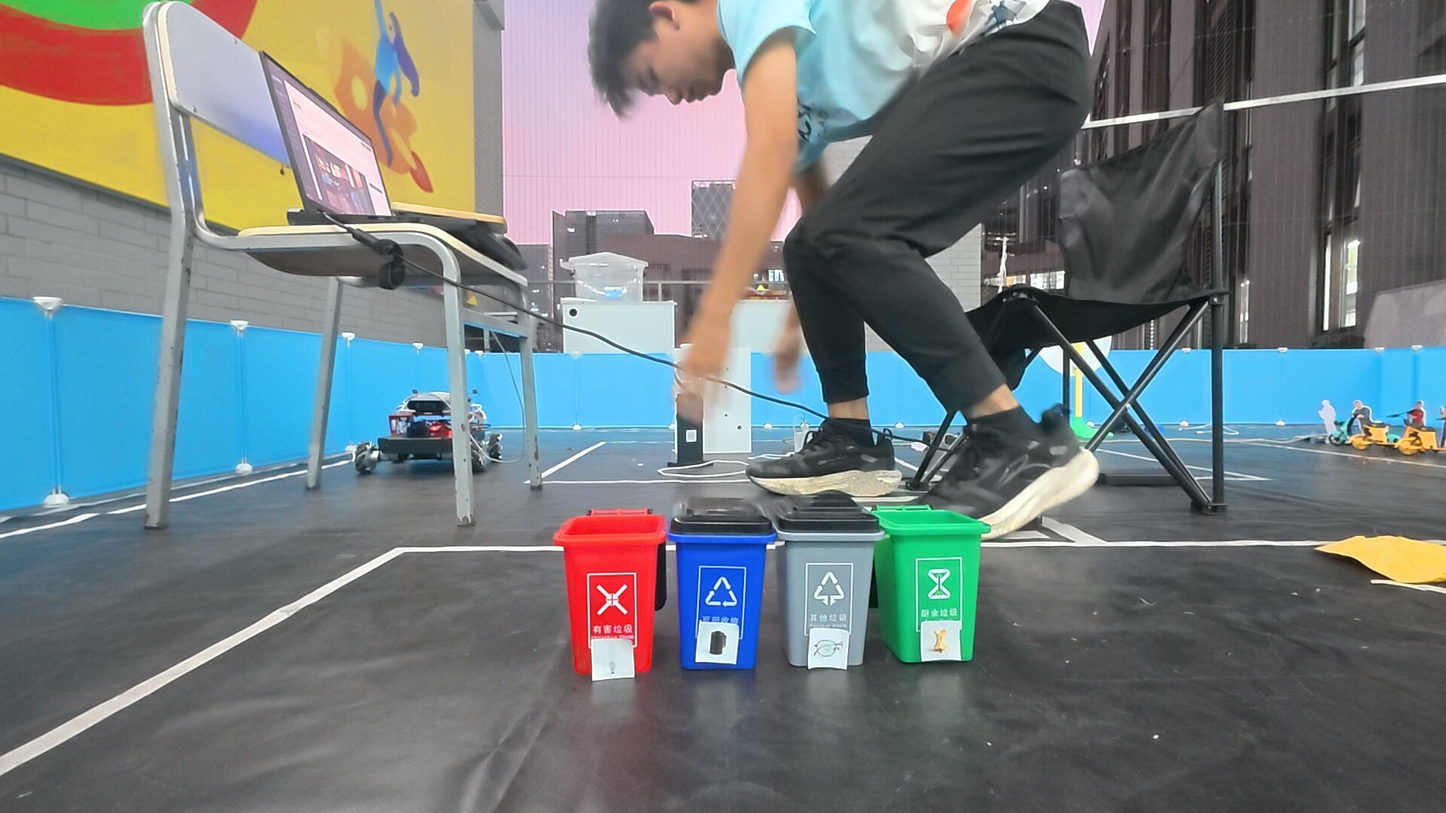food_trash: (922, 622, 961, 662)
hazardous_trash: (591, 639, 635, 680), (698, 623, 736, 664)
other_trash: (809, 628, 849, 668)
